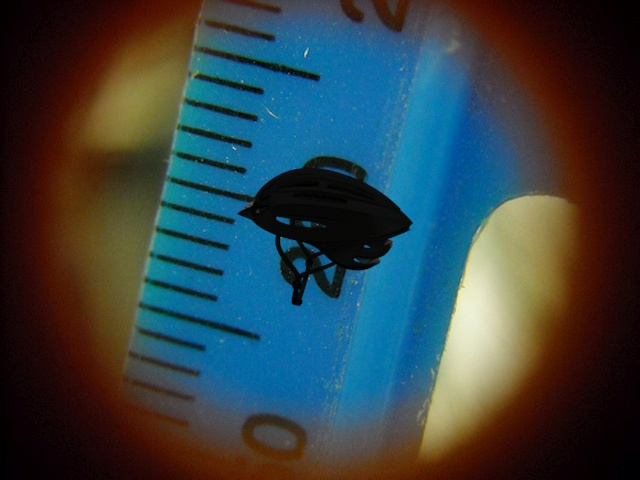bike_helmet: (233, 161, 416, 312)
